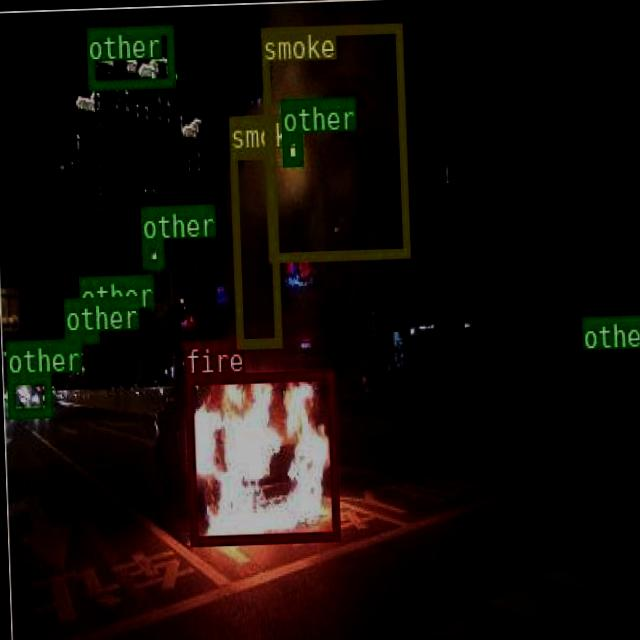fire: (183, 369, 338, 544)
smoke: (260, 21, 408, 260), (228, 146, 280, 348)
